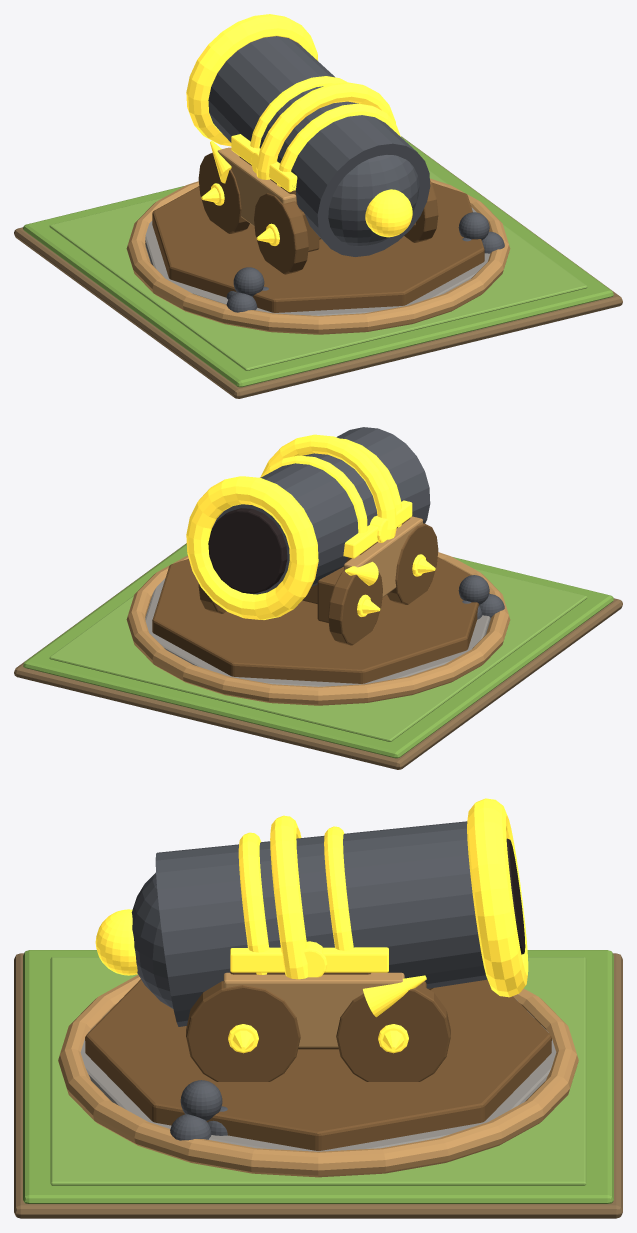
Rendered from cannon_lv5.glb.
3 renders of one model, top to bottom at view 1: azimuth 30°, elevation 25°; view 2: azimuth 150°, elevation 25°; view 3: azimuth 270°, elevation 25°, orthographic. The views are drawn at different scales.
Parts seen in each view (by area): view 1: TurntableWood, CannonBarrel, Base_Inner, Base_Grass, CN_BaseArmorRing, Base_Dirt, CannonBreech, MuzzleLip, CN_HeavyBreechRing, CannonWheel_-1_-1, TurntableStone, CannonWheel_-1_1 (+8 smaller); view 2: TurntableWood, Base_Inner, Base_Grass, CN_BaseArmorRing, CannonBarrel, MuzzleLip, Base_Dirt, BarrelBore, CN_HeavyBreechRing, CannonWheel_-1_1, TurntableStone, CannonWheel_-1_-1 (+7 smaller); view 3: TurntableWood, CannonBarrel, Base_Inner, Base_Grass, CN_BaseArmorRing, Base_Dirt, CannonWheel_1_-1, MuzzleLip, CannonWheel_1_1, CN_HeavyCheekShield_1, CN_HeavyBreechRing, TurntableStone (+10 smaller).
Boxes of the visible parts, bbox=[...] form: TurntableWood: bbox=[152, 182, 484, 312]; CannonBarrel: bbox=[208, 36, 430, 256]; Base_Inner: bbox=[49, 170, 587, 370]; Base_Grass: bbox=[23, 136, 613, 387]; CN_BaseArmorRing: bbox=[126, 178, 510, 334]; Base_Dirt: bbox=[14, 136, 622, 398]; CannonBreech: bbox=[328, 155, 419, 246]; MuzzleLip: bbox=[186, 14, 318, 146]; CN_HeavyBreechRing: bbox=[256, 82, 395, 179]; CannonWheel_-1_-1: bbox=[254, 193, 308, 274]; TurntableStone: bbox=[145, 207, 489, 315]; CannonWheel_-1_1: bbox=[198, 152, 249, 233]; TurntableWood: bbox=[152, 557, 479, 683]; Base_Inner: bbox=[49, 568, 587, 741]; Base_Grass: bbox=[23, 543, 613, 758]; CN_BaseArmorRing: bbox=[126, 552, 510, 705]; CannonBarrel: bbox=[211, 427, 430, 594]; MuzzleLip: bbox=[186, 476, 318, 619]; Base_Dirt: bbox=[14, 543, 622, 769]; BarrelBore: bbox=[208, 508, 287, 593]; CN_HeavyBreechRing: bbox=[261, 434, 396, 539]; CannonWheel_-1_1: bbox=[328, 568, 382, 645]; TurntableStone: bbox=[145, 578, 490, 686]; CannonWheel_-1_-1: bbox=[387, 523, 438, 604]; TurntableWood: bbox=[85, 979, 551, 1150]; CannonBarrel: bbox=[155, 821, 487, 1026]; Base_Inner: bbox=[50, 957, 586, 1185]; Base_Grass: bbox=[23, 950, 613, 1203]; CN_BaseArmorRing: bbox=[58, 975, 578, 1177]; Base_Dirt: bbox=[14, 953, 622, 1218]; CannonWheel_1_-1: bbox=[186, 981, 300, 1081]; MuzzleLip: bbox=[467, 798, 528, 997]; CannonWheel_1_1: bbox=[336, 984, 450, 1081]; CN_HeavyCheekShield_1: bbox=[223, 972, 404, 1047]; CN_HeavyBreechRing: bbox=[270, 815, 307, 979]; TurntableStone: bbox=[80, 999, 556, 1151].
Bounding box in the file's own units: 2.76 × 1.42 × 2.76.
